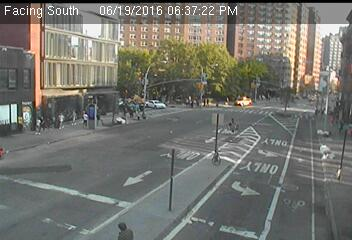neg: (281, 94, 294, 112), (239, 91, 251, 106), (172, 93, 183, 107)
pos: (30, 115, 46, 137), (116, 218, 130, 237), (55, 110, 69, 129), (79, 112, 90, 127)
